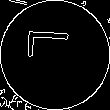L_E: (29, 38, 81, 72)
